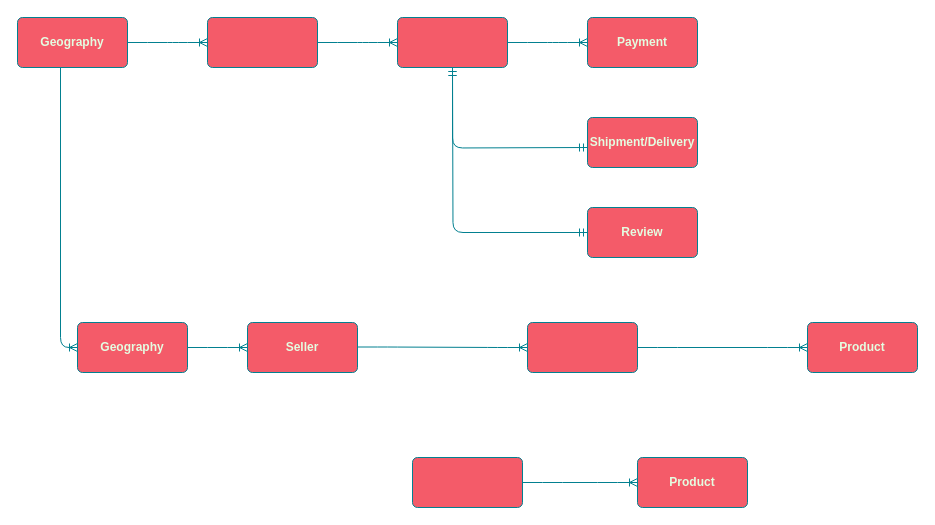
The diagram is 935 pixels wide and 525 high, and some of its shapes have lost their labels. The box of each missing label's shape, as (x1, y1, x2, y2) in pixels:
Customer: (206, 16, 318, 68)
Order: (396, 16, 508, 68)
Order Item: (526, 322, 638, 372)
Product Category: (412, 456, 522, 508)
